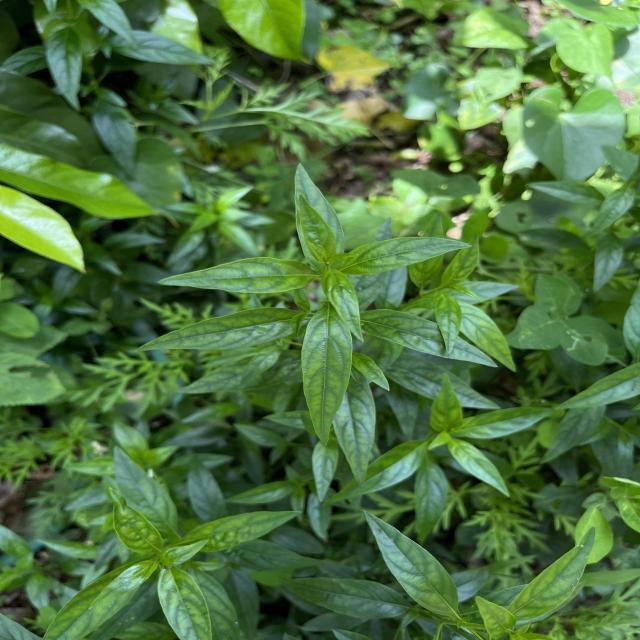Andrographis paniculata: (362, 508, 464, 620), (42, 557, 152, 640), (506, 526, 596, 622), (366, 308, 500, 370), (133, 306, 297, 354), (300, 303, 354, 446), (320, 437, 428, 507), (154, 256, 316, 294), (292, 162, 346, 268), (339, 236, 474, 277), (185, 508, 304, 554), (156, 565, 214, 640), (447, 438, 511, 498), (460, 406, 554, 440), (430, 496, 434, 516)
